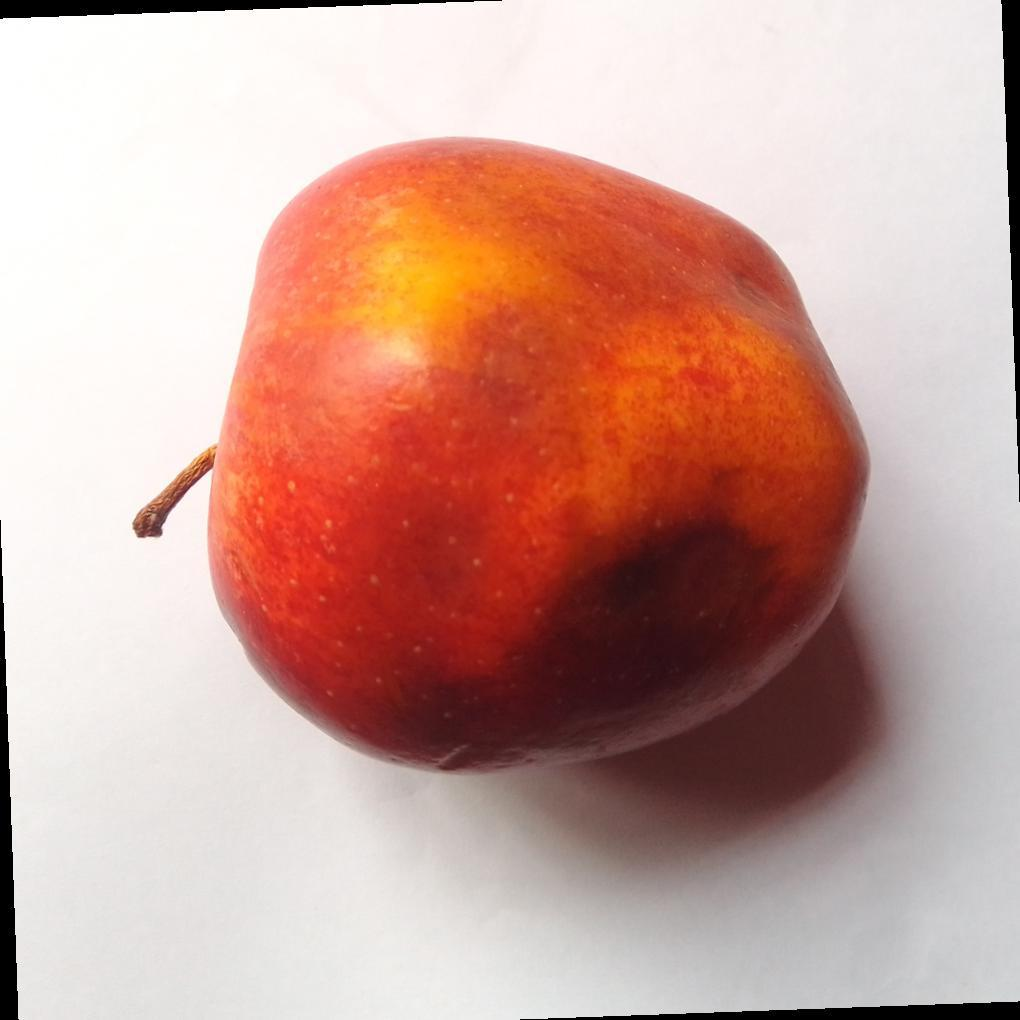FreshOrange: (138, 137, 871, 778)
